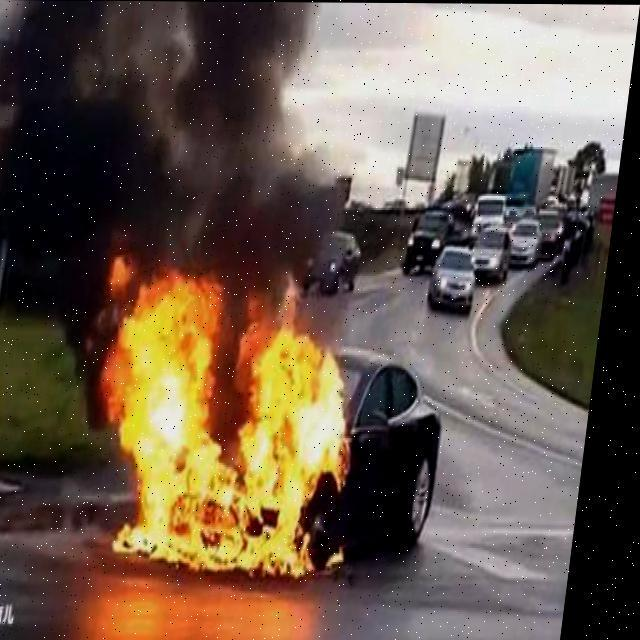Fire: (77, 242, 389, 584)
